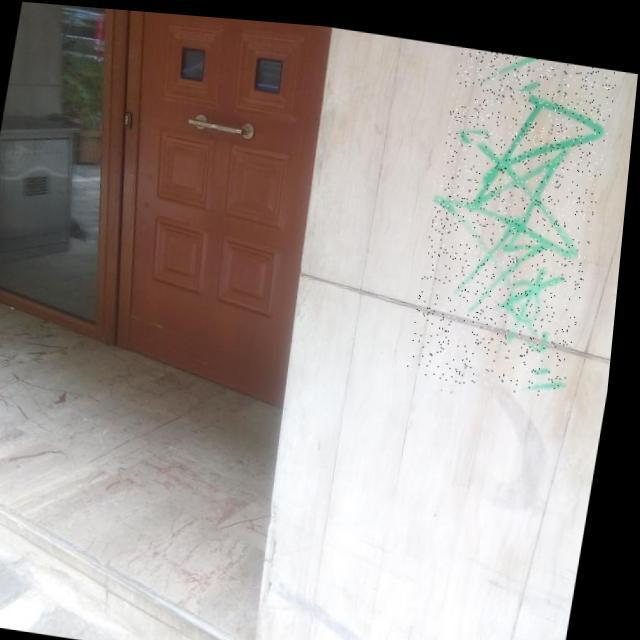-: (412, 37, 620, 390)
